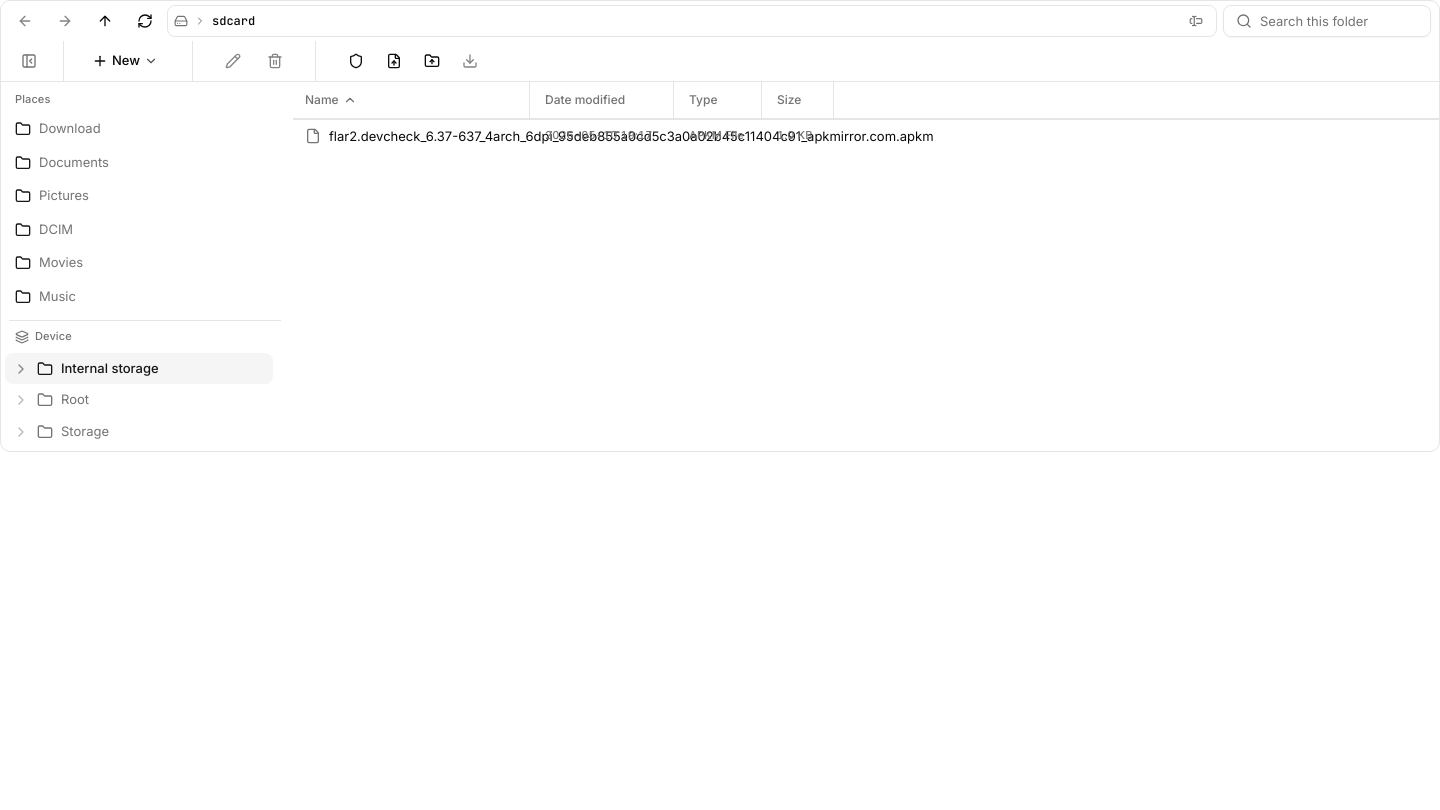
ViewFileExplorer › wraps long filenames in the delete confirmation dialog
Click the text "flar2.devcheck_6.37-637_4arch_6dpi_95deb855a0cd5c3a0a02b45c11404c91_apkmirror.com.apkm": (425, 136) x1=329 y1=128 x2=521 y2=144
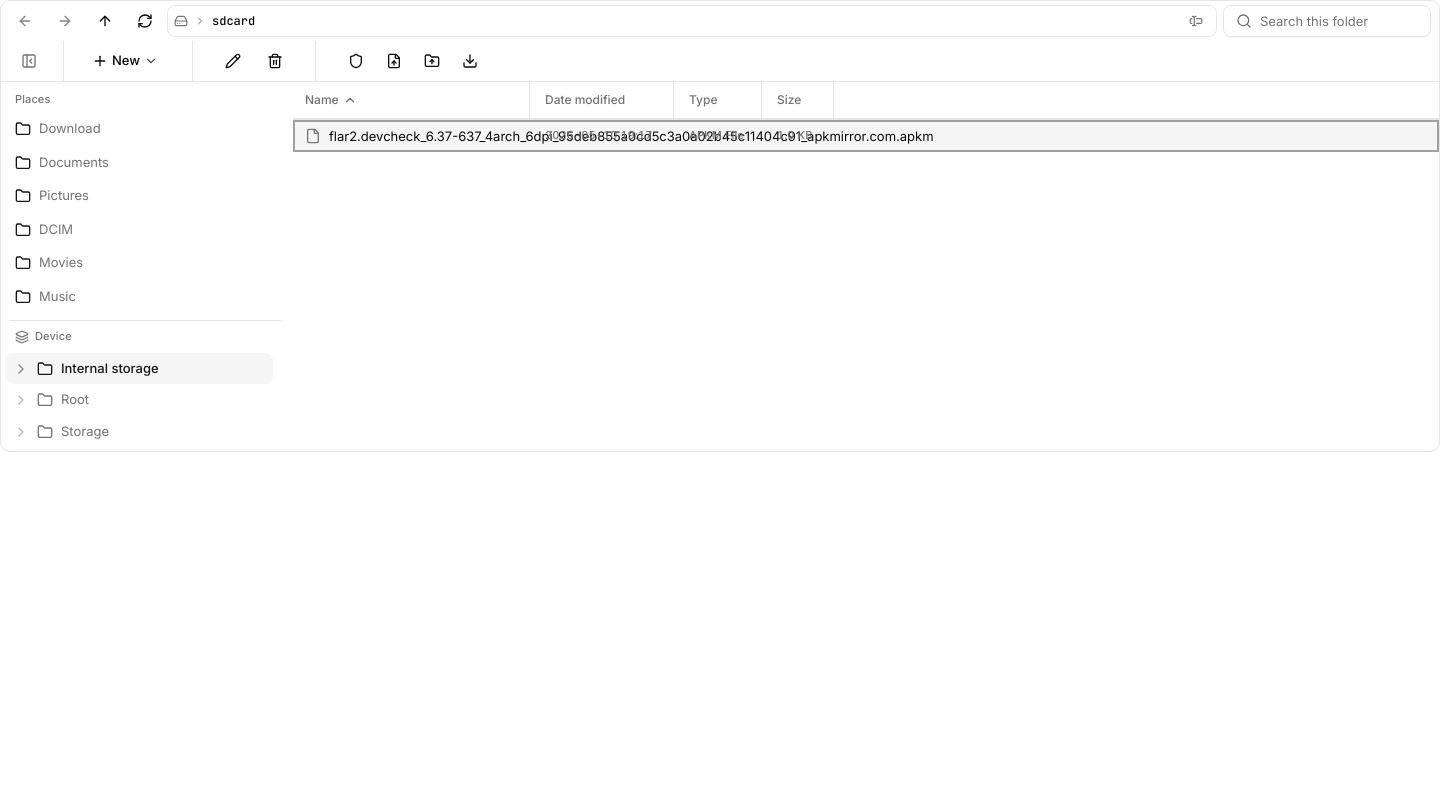
Press Delete
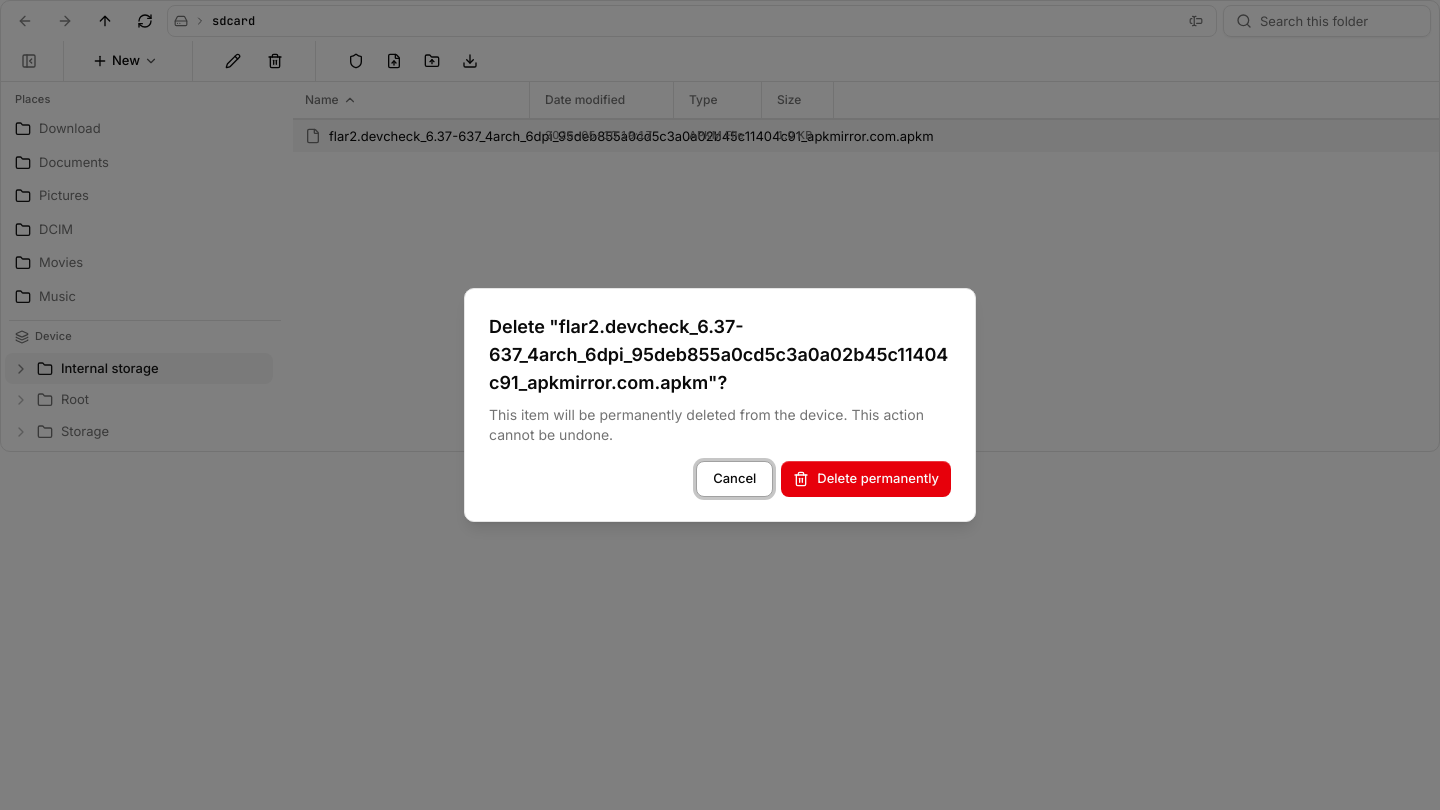
Expected: the heading shows "flar2.devcheck_6.37-637_4arch_6dpi_95deb855a0cd5c3a0a02b45c11404c91_apkmirror.com.apkm", x1=489 y1=316 x2=948 y2=393
